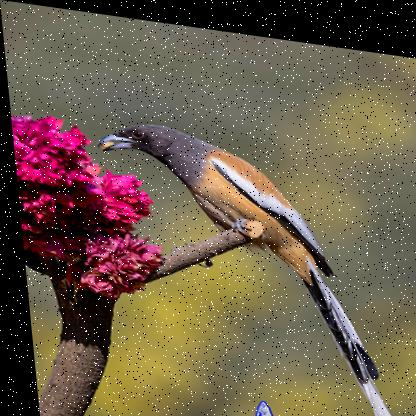Burung: (90, 113, 400, 415)
